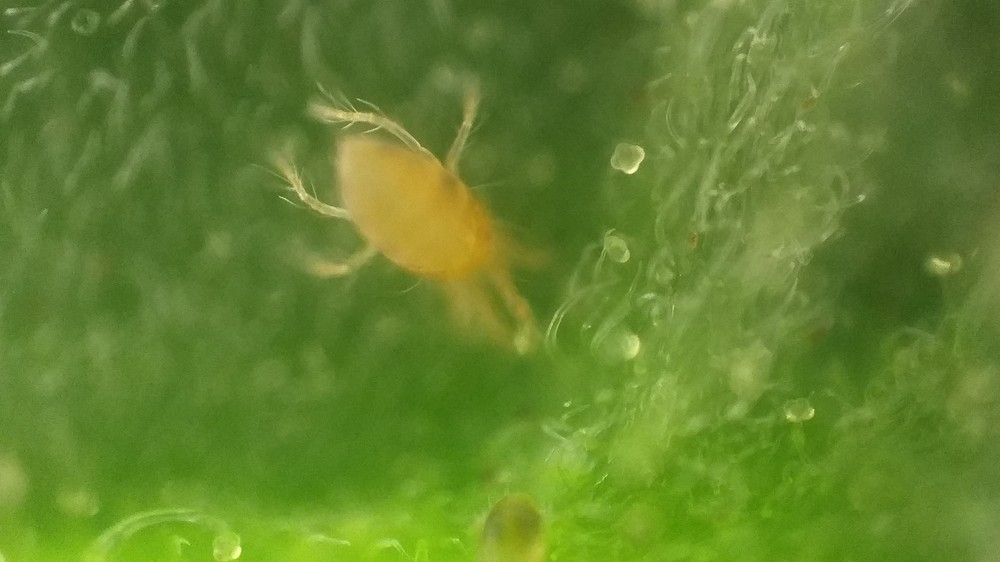Aracnido Rojo: (262, 73, 578, 366)
